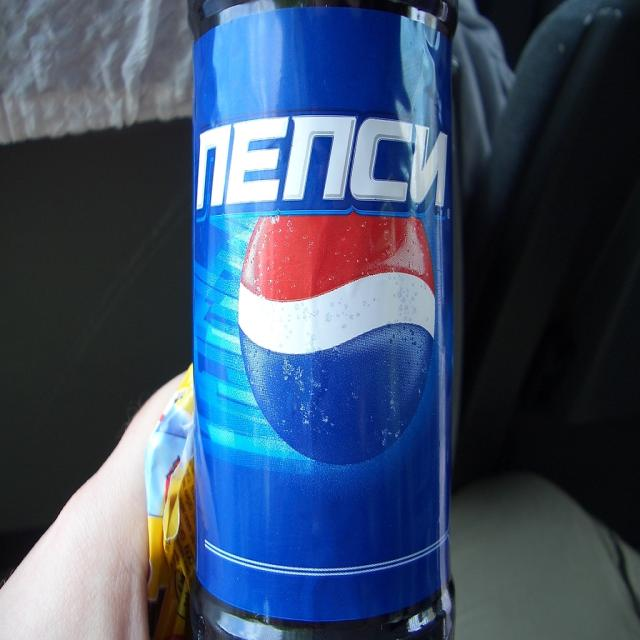pepsi: (233, 208, 443, 468)
